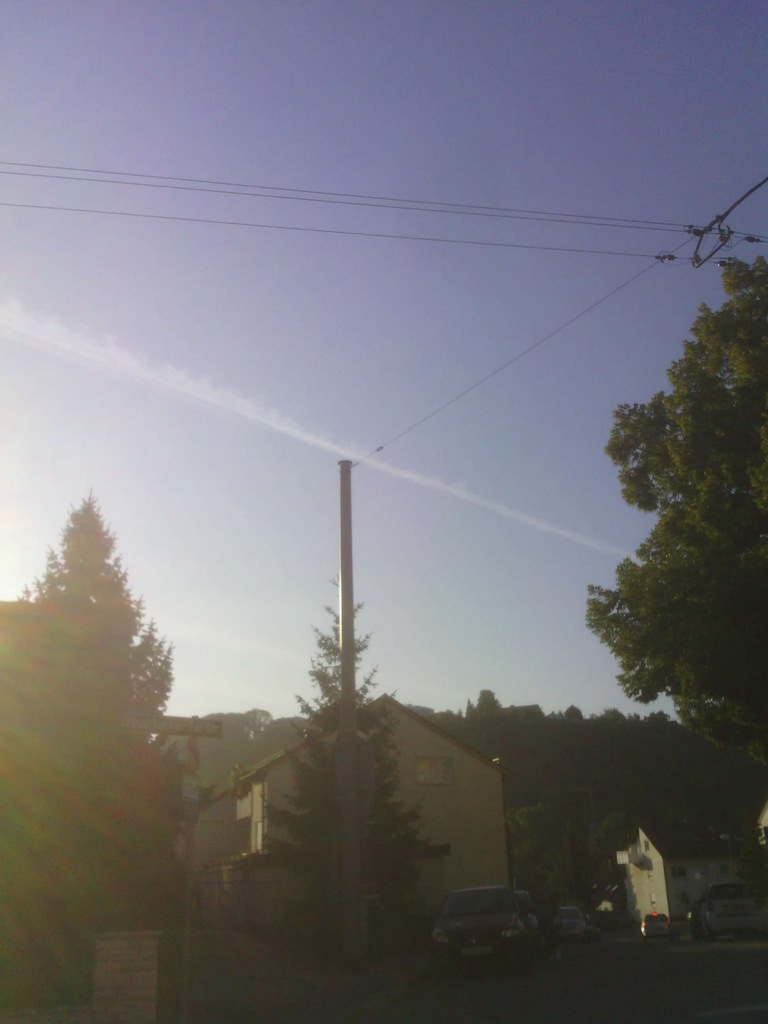Car: (424, 879, 541, 975), (689, 872, 767, 945)
